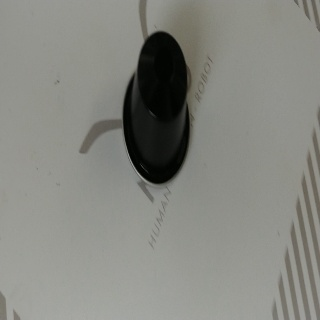capsule_10: (122, 29, 191, 188)
